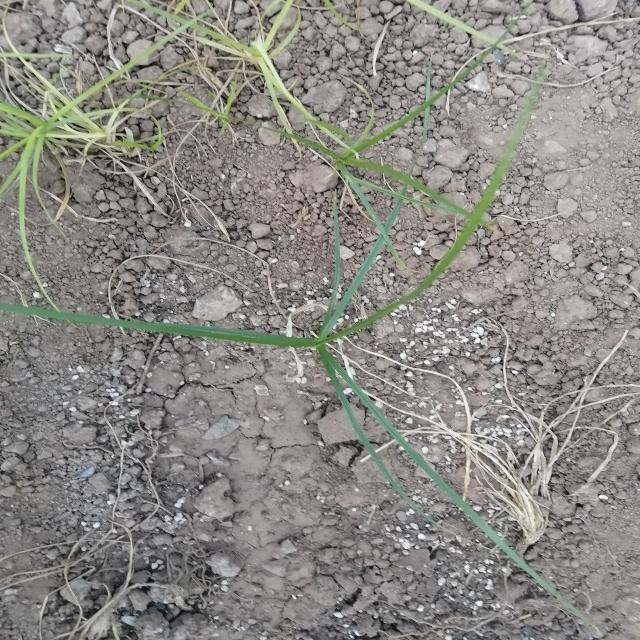sedge: (24, 33, 593, 541)
